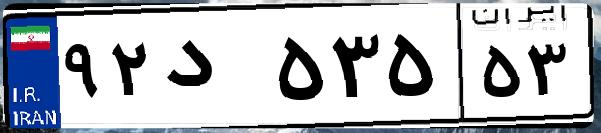2: (110, 28, 158, 98)
3: (330, 28, 385, 110), (525, 38, 570, 115)
5: (270, 28, 330, 110), (385, 28, 445, 110), (475, 38, 525, 113)
9: (57, 26, 110, 100)
د: (158, 20, 270, 120)
